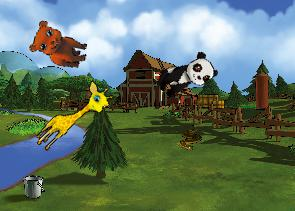bear: (27, 18, 92, 70)
giraffe: (31, 76, 117, 160)
panda: (152, 48, 219, 104)
